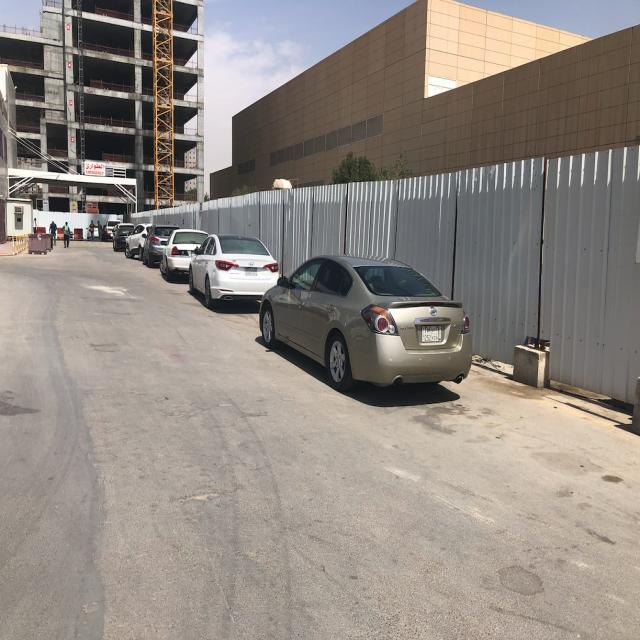license_plate: (422, 326, 441, 342), (245, 268, 258, 276)
